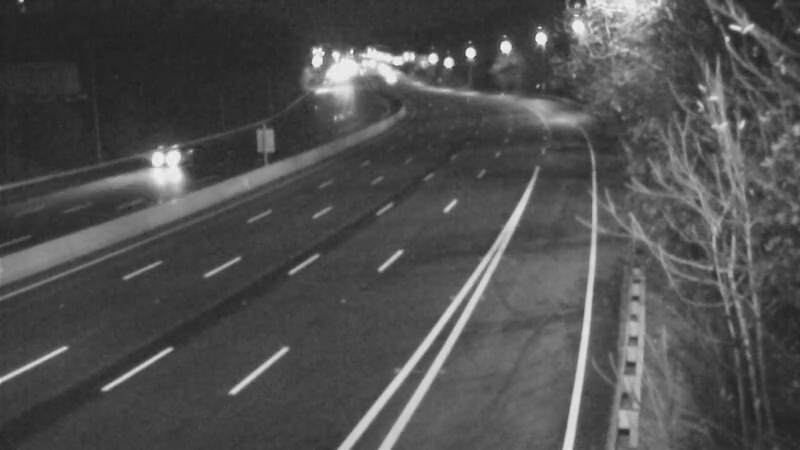vehicle: (131, 119, 211, 199), (362, 52, 412, 102)
